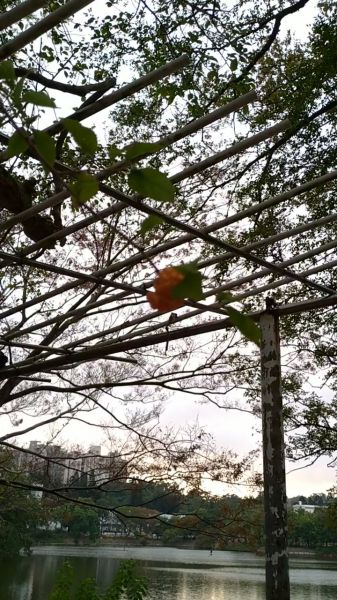eggs: (141, 266, 189, 317)
